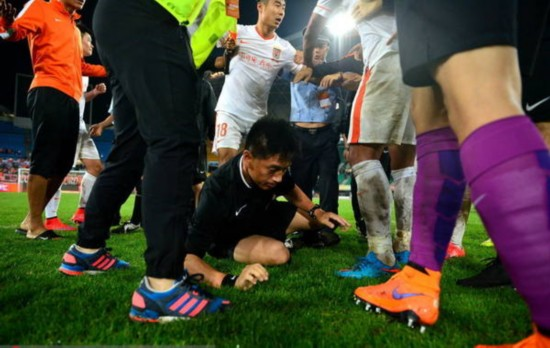10+: (1, 1, 550, 348)
down: (181, 110, 365, 301)
